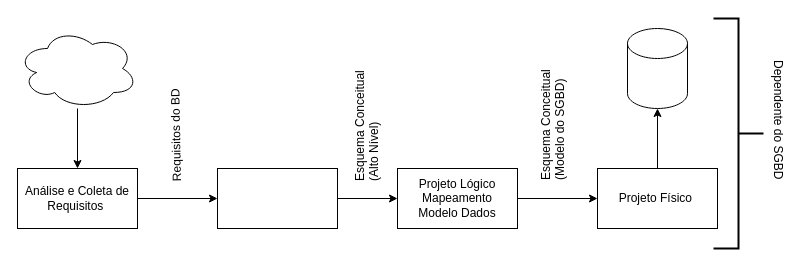
The diagram is 810 pixels wide and 266 high, and some of its shapes have lost their labels. Each missing label, with the centre of its shape:
"Mini mundo" belongs at point 77,68.
"Projeto Conceitual" belongs at point 277,198.
